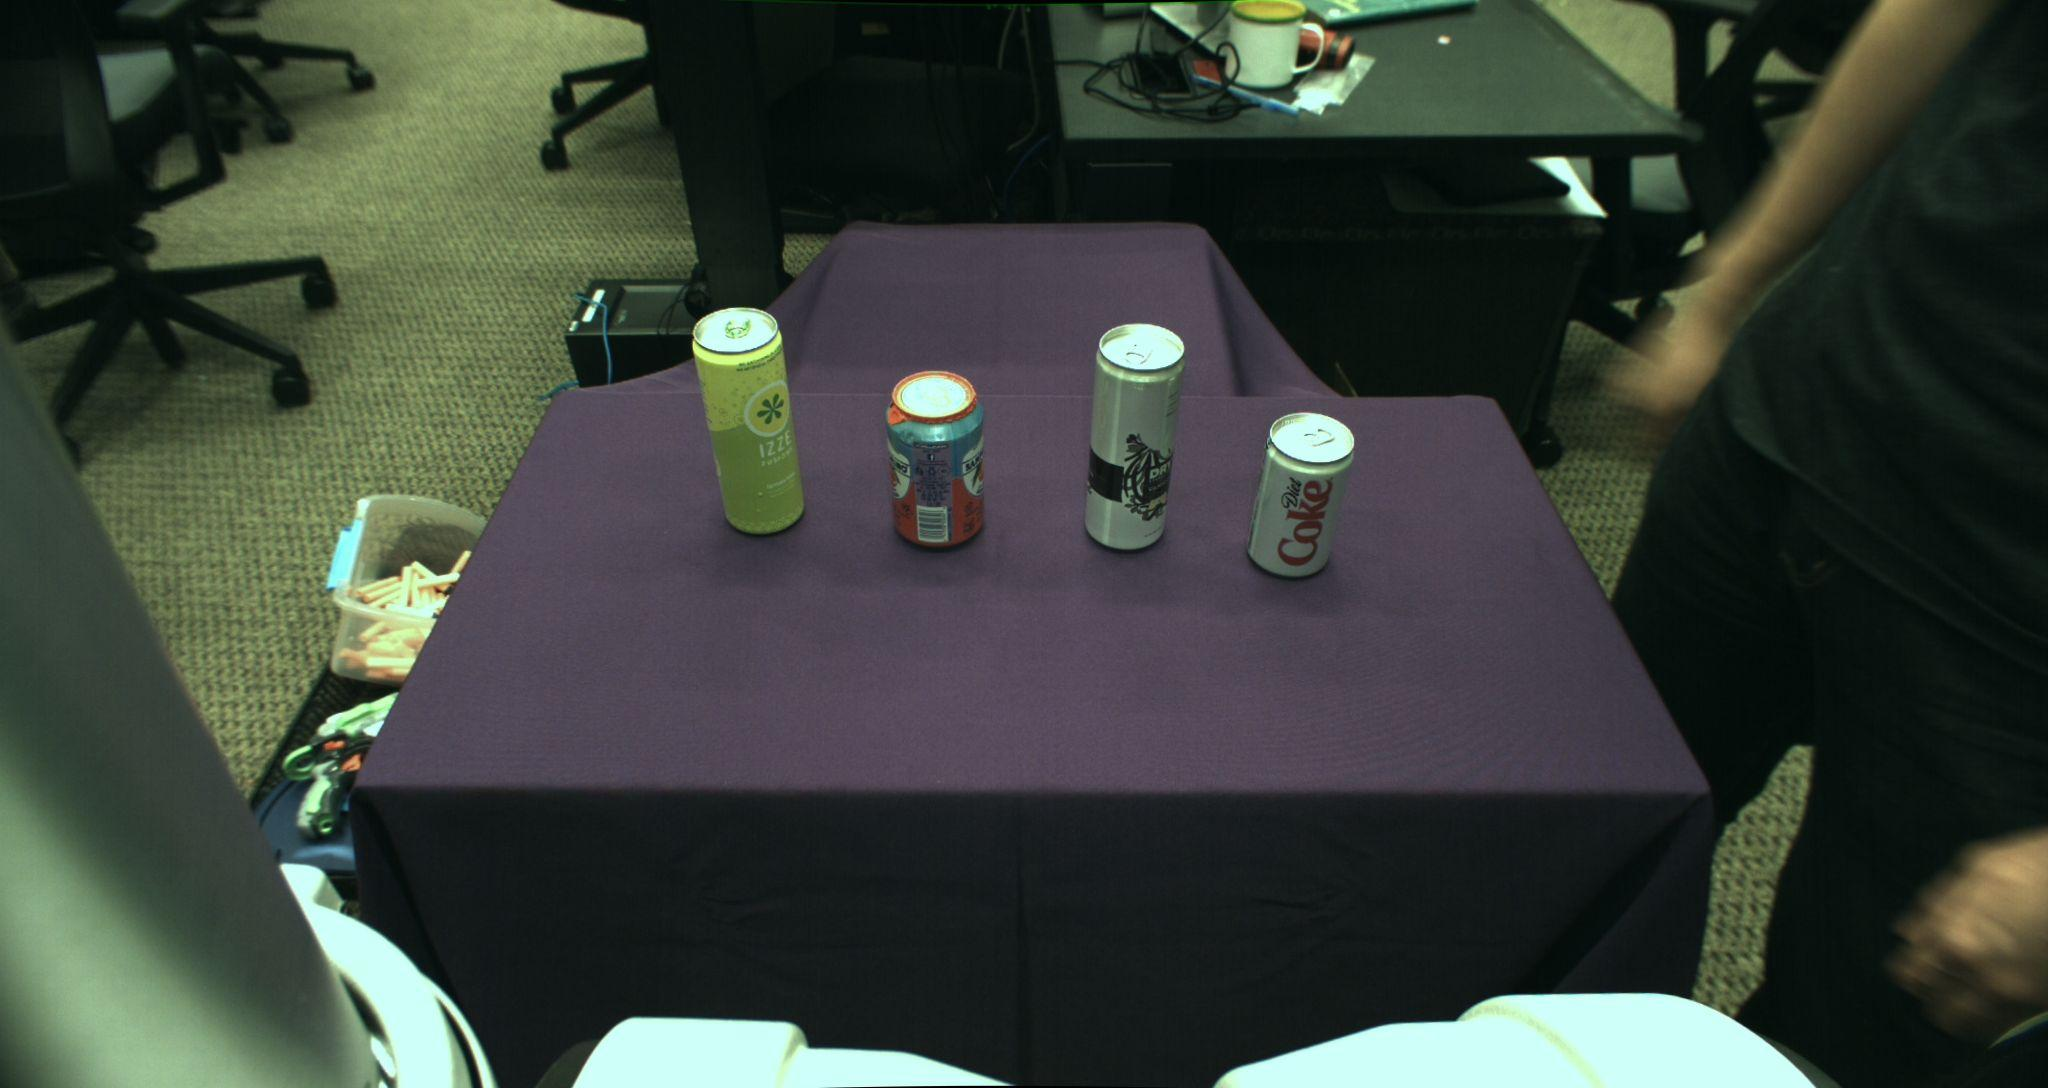can_diet_coke_small: (1246, 411, 1354, 579)
can_dry_sparkling_vanilla_bean: (1085, 322, 1185, 551)
can_izze_fusions_lemon_lime: (691, 306, 805, 537)
can_sanpellegrino_blood_orange: (886, 370, 982, 547)
